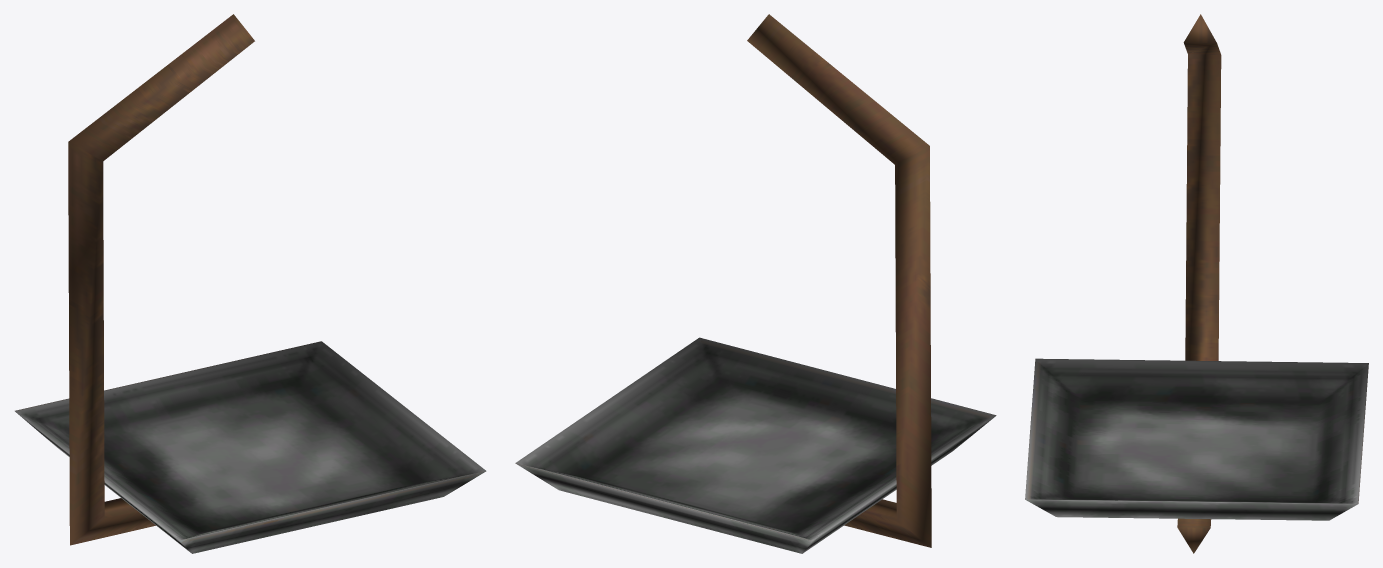
Rendered from INST_SWORDLIGHT_CONV76-NEW.fbx.
3 renders of one model, left to right at view 1: azimuth 30°, elevation 25°; view 2: azimuth 150°, elevation 25°; view 3: azimuth 270°, elevation 25°, orthographic. The views are drawn at different scales.
Parts seen in each view (by area): view 1: INST_SWORDLIGHT_CONV76-NEW; view 2: INST_SWORDLIGHT_CONV76-NEW; view 3: INST_SWORDLIGHT_CONV76-NEW.
Boxes of the visible parts, bbox=[...] form: INST_SWORDLIGHT_CONV76-NEW: bbox=[15, 14, 486, 553]; INST_SWORDLIGHT_CONV76-NEW: bbox=[515, 14, 996, 553]; INST_SWORDLIGHT_CONV76-NEW: bbox=[1025, 14, 1368, 553].
Size of the model in its own units: 16559 by 23348 by 15459.
1 material, 1 textured.
